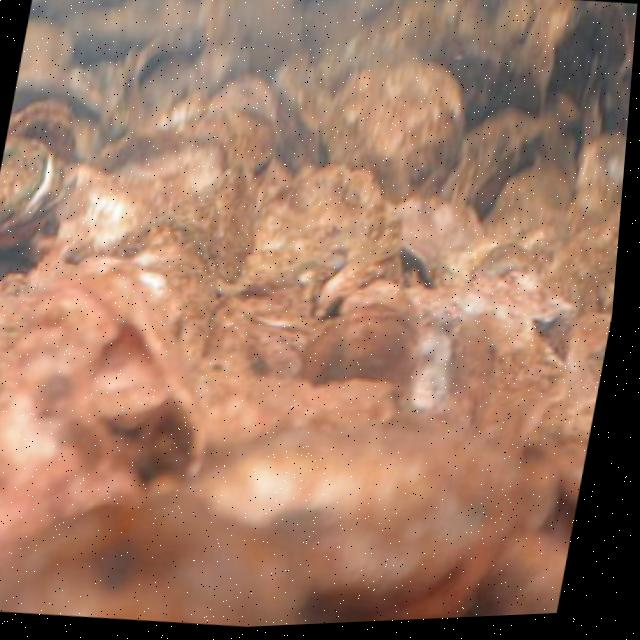Oyster-Closed: (181, 412, 516, 624), (0, 134, 68, 254), (5, 101, 86, 160)
Oyster-Indeterminate: (0, 493, 304, 624), (326, 58, 464, 197), (253, 168, 389, 294), (450, 101, 544, 215), (299, 317, 423, 386), (210, 165, 253, 278)
